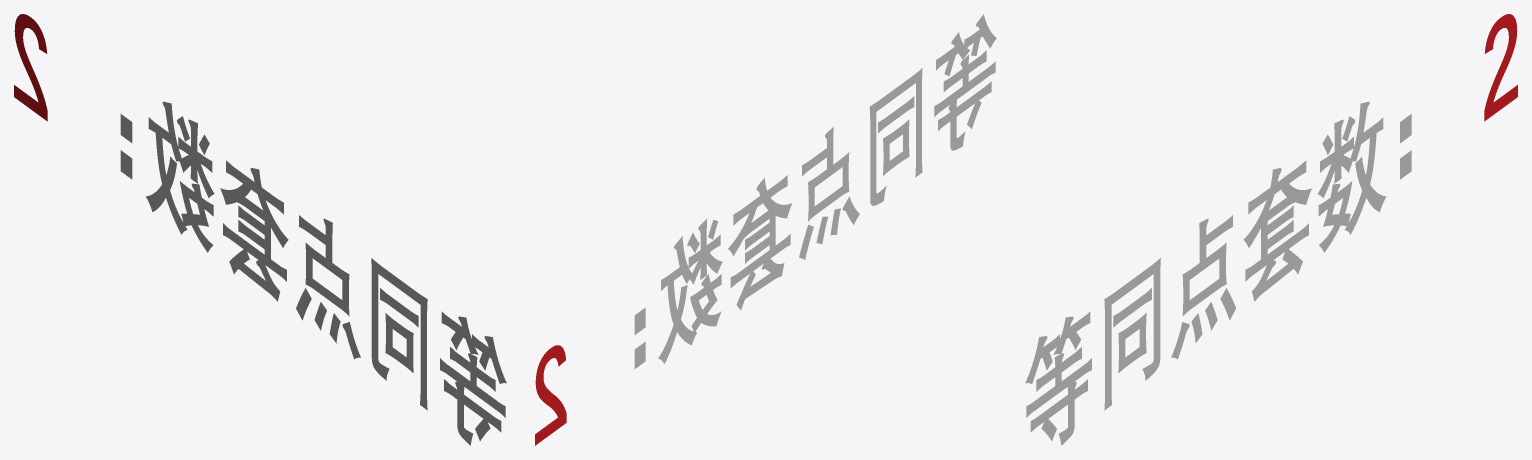
The model's file is d等同点.fbx.
3 renders of one model, left to right at view 1: azimuth 30°, elevation 25°; view 2: azimuth 150°, elevation 25°; view 3: azimuth 330°, elevation 25°, orthographic. The views are drawn at different scales.
Visible parts, largest first — view 1: Text.002, Text.003; view 2: Text.002, Text.003; view 3: Text.002, Text.003.
Boxes of the visible parts, bbox=[...] form: Text.002: bbox=[120, 101, 506, 445]; Text.003: bbox=[14, 14, 47, 121]; Text.002: bbox=[634, 14, 996, 368]; Text.003: bbox=[535, 345, 566, 445]; Text.002: bbox=[1025, 101, 1411, 445]; Text.003: bbox=[1484, 14, 1517, 121].
Size of the model in its own units: 0.1002 by 79.26 by 556.
